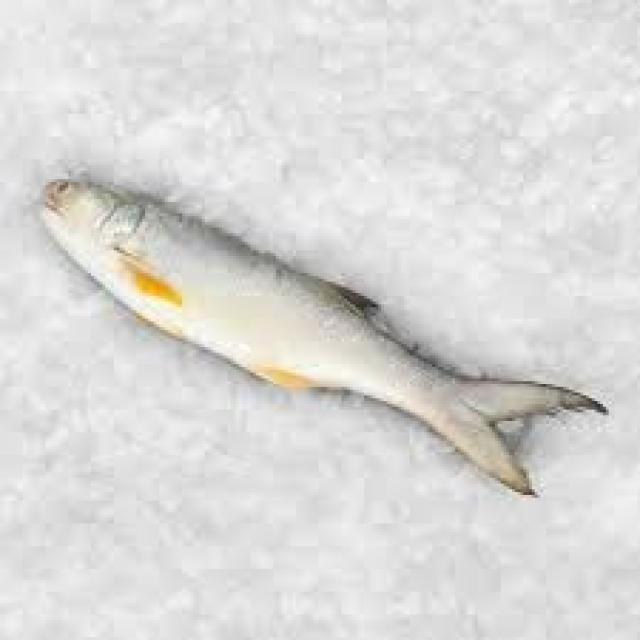Fourfinger-Threadfin: (8, 99, 609, 522)
